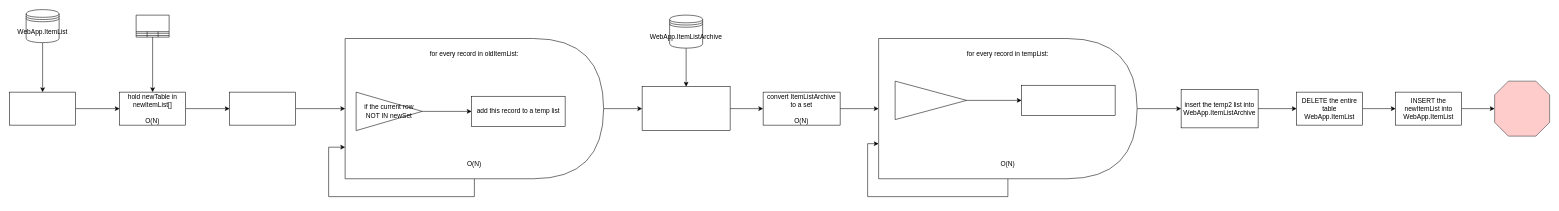
The diagram is 1559 pixels wide and 211 high, and some of its shapes have lost their labels. Each missing label, with the centre of its shape:
"add this record to a second temporary list" goes at point 1068,100.
"convert newItemList to a set O(N)" goes at point 262,108.
"hold current ItemList in oldItemList O(N)" goes at point 42,108.
"hold the ItemListArchive table in itemListArchive[] O(N)" goes at point 686,108.
"if the current row NOT IN ItemListArchive" goes at point 931,100.
"newTable.xlsx from management" goes at point 152,26.
